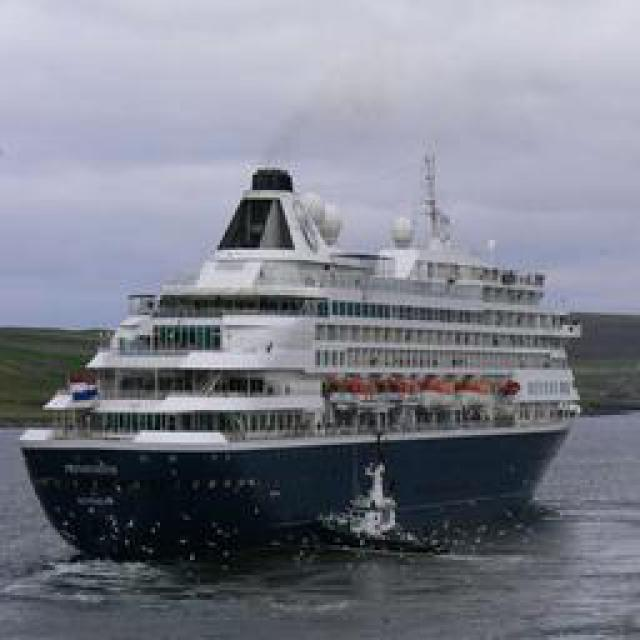Ship: (22, 154, 592, 549)
